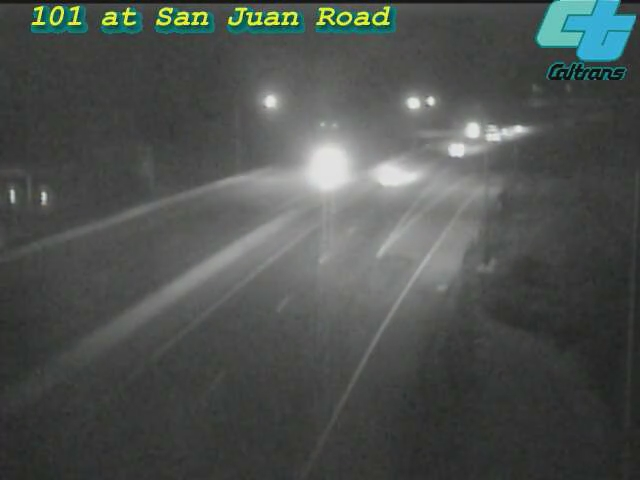vehicle: (294, 122, 374, 202), (359, 131, 439, 211), (444, 104, 494, 154), (491, 104, 541, 154), (473, 107, 523, 157), (433, 125, 483, 175)
